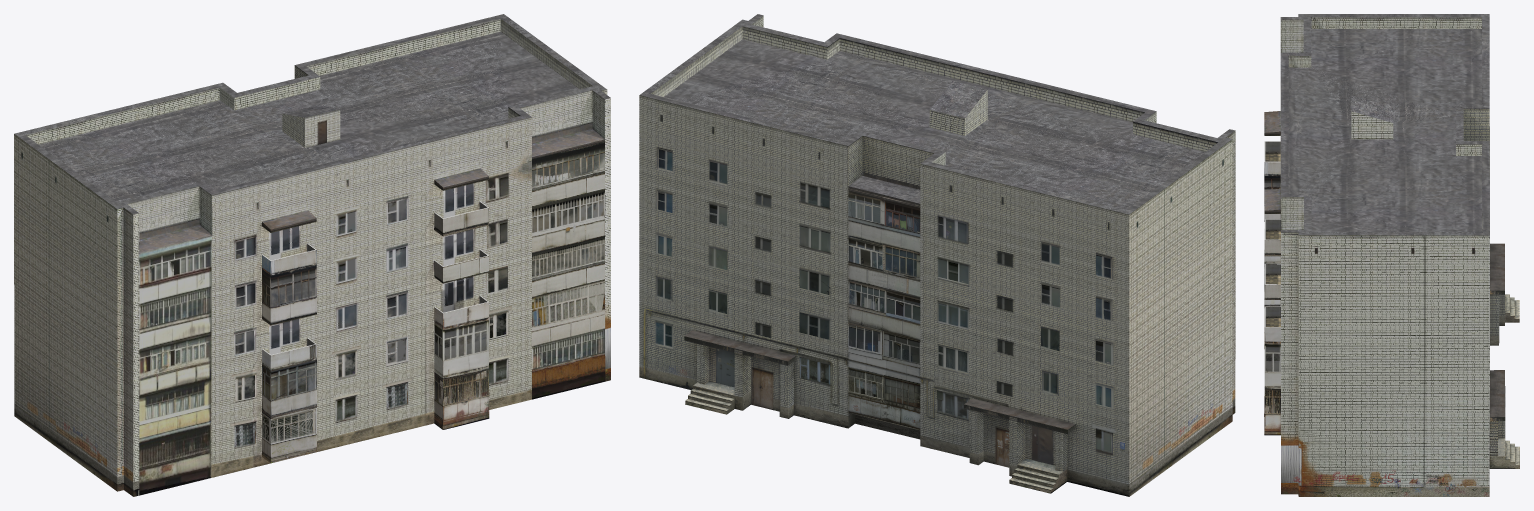
Rendered from 5floor.obj.
3 renders of one model, left to right at view 1: azimuth 30°, elevation 25°; view 2: azimuth 150°, elevation 25°; view 3: azimuth 270°, elevation 25°, orthographic. The views are drawn at different scales.
Visible parts, largest first — view 1: C-Mesh022, C-Mesh022_1, C-Mesh022_3, C-Mesh022_2; view 2: C-Mesh022_2, C-Mesh022_3, C-Mesh022_1; view 3: C-Mesh022_1, C-Mesh022_3, C-Mesh022, C-Mesh022_2.
Part boxes in pixels (box(x1,y1,x2,y2)): C-Mesh022: box(127, 90, 605, 495); C-Mesh022_1: box(14, 19, 610, 496); C-Mesh022_3: box(14, 14, 610, 214); C-Mesh022_2: box(282, 19, 592, 234); C-Mesh022_2: box(639, 26, 1217, 496); C-Mesh022_3: box(639, 14, 1235, 214); C-Mesh022_1: box(932, 131, 1235, 496); C-Mesh022_1: box(1281, 17, 1489, 496); C-Mesh022_3: box(1280, 14, 1489, 235); C-Mesh022: box(1264, 19, 1303, 435); C-Mesh022_2: box(1463, 108, 1519, 468).
Bounding box in the file's own units: 32.05 × 18.76 × 15.64.
Materials: 4 (4 with a texture image).
